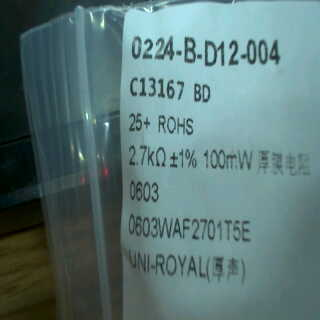2.7kR: (124, 141, 168, 175)
